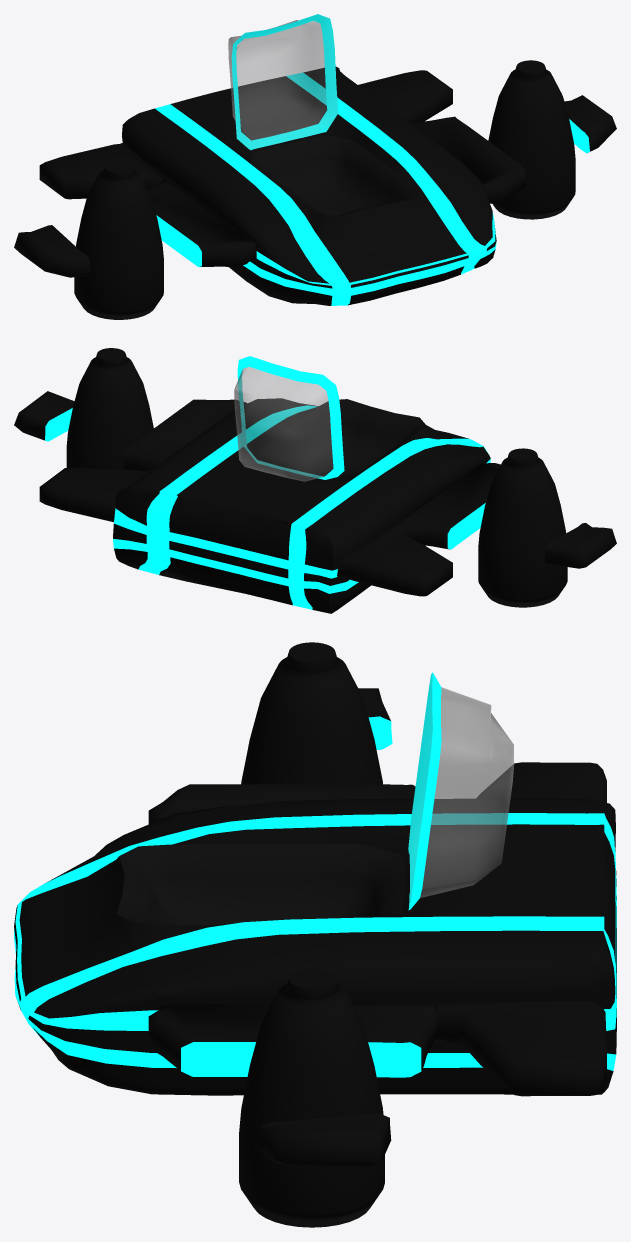
Rendered from Ship@ShipDoorClose.FBX.
3 renders of one model, top to bottom at view 1: azimuth 30°, elevation 25°; view 2: azimuth 150°, elevation 25°; view 3: azimuth 270°, elevation 25°, orthographic. The views are drawn at different scales.
Parts seen in each view (by area): view 1: Base, Engines, Wings, Cockpit Door, Base-Neon, Cockpit, Cockpit Door-Neon, Wings-Neon; view 2: Base, Wings, Engines, Base-Neon, Cockpit Door, Cockpit, Cockpit Door-Neon, Wings-Neon; view 3: Base, Engines, Wings, Cockpit, Base-Neon, Cockpit Door, Wings-Neon, Cockpit Door-Neon.
Boxes of the visible parts, box(x1,y1,x2,y2) form: Base: box(122, 66, 496, 305); Engines: box(74, 60, 575, 319); Wings: box(14, 70, 616, 277); Cockpit Door: box(228, 14, 337, 149); Base-Neon: box(155, 72, 496, 305); Cockpit: box(251, 135, 420, 216); Cockpit Door-Neon: box(231, 14, 338, 150); Wings-Neon: box(156, 119, 589, 266); Base: box(113, 398, 490, 613); Wings: box(14, 391, 616, 596); Engines: box(66, 348, 567, 607); Base-Neon: box(113, 405, 490, 609); Cockpit Door: box(234, 367, 333, 481); Cockpit: box(257, 399, 425, 476); Cockpit Door-Neon: box(237, 356, 344, 479); Wings-Neon: box(45, 408, 485, 549); Base: box(14, 798, 616, 1095); Engines: box(239, 642, 384, 1227); Wings: box(148, 688, 606, 1166); Cockpit: box(117, 844, 405, 925); Base-Neon: box(14, 813, 616, 1070); Cockpit Door: box(408, 673, 514, 905); Wings-Neon: box(181, 716, 421, 1077); Cockpit Door-Neon: box(408, 672, 441, 910).
Size of the model in its own units: 268 by 91.66 by 150.
